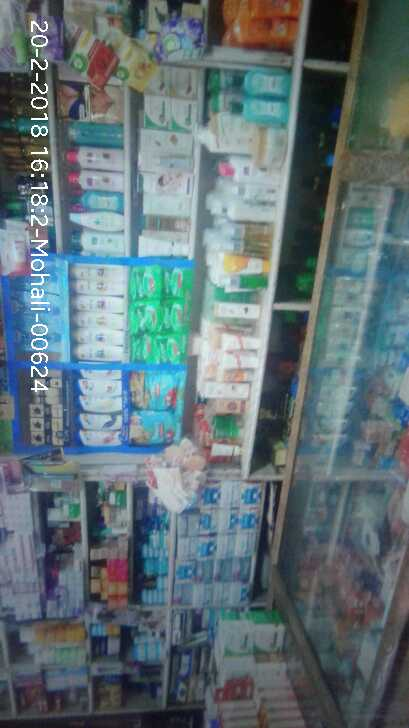venus: (12, 292, 55, 325), (12, 325, 62, 352), (13, 264, 55, 292)
